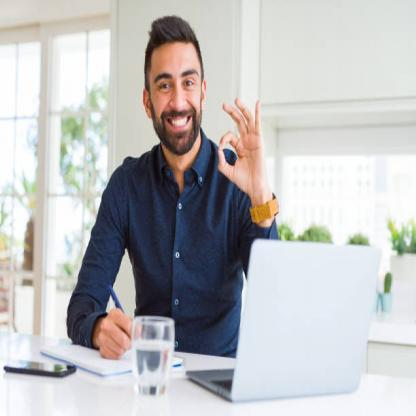ok: (214, 95, 266, 193)
